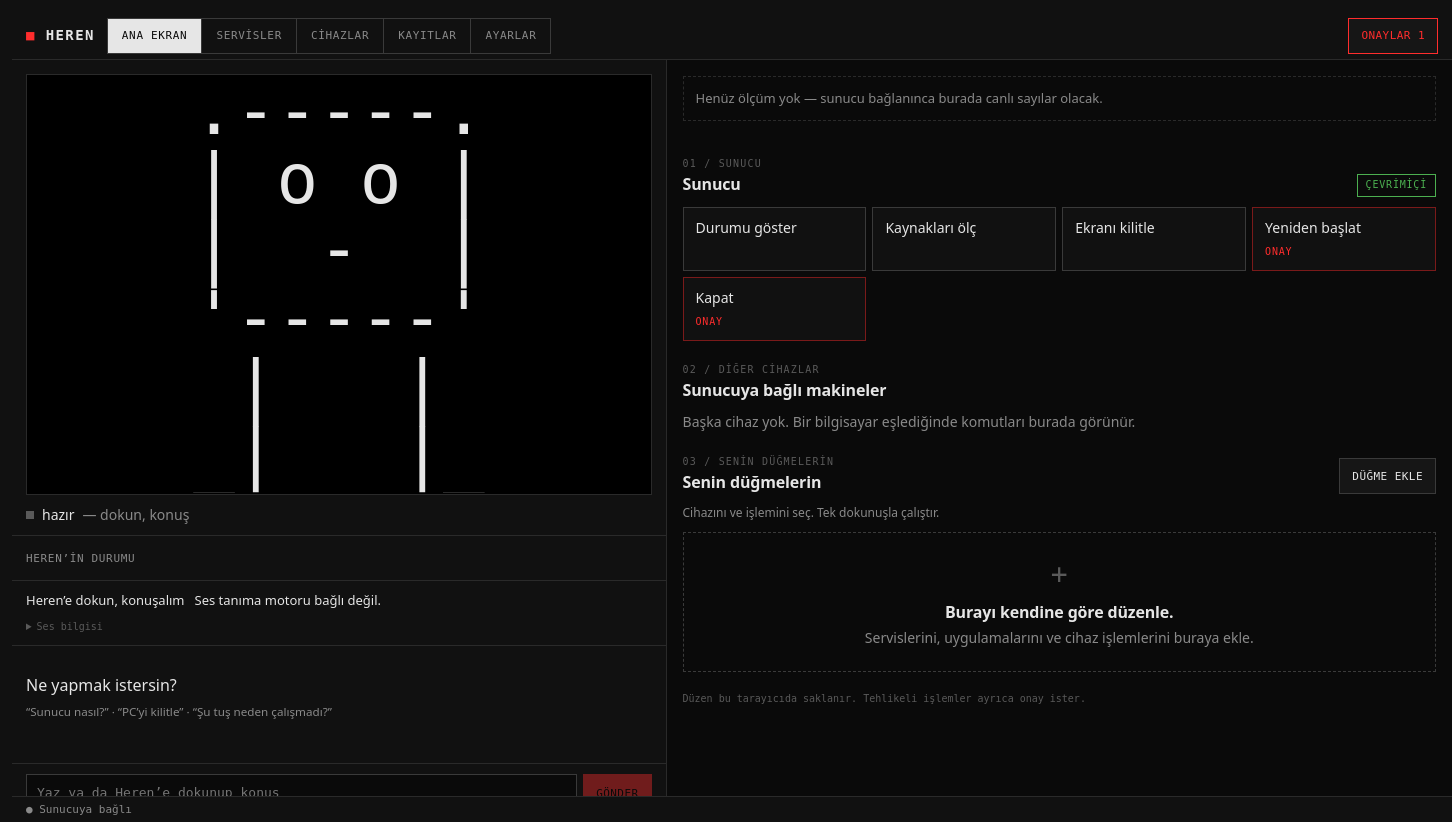
two-half home screen › composer sends trimmed text and hides internal tool names
This screenshot has width=1452, height=822.
Type "  şu tuş çalışmıyor niye  " into the field named "Heren'e mesaj".
click(302, 794); type("  şu tuş çalışmıyor niye  ")  # box [26,774,577,814]
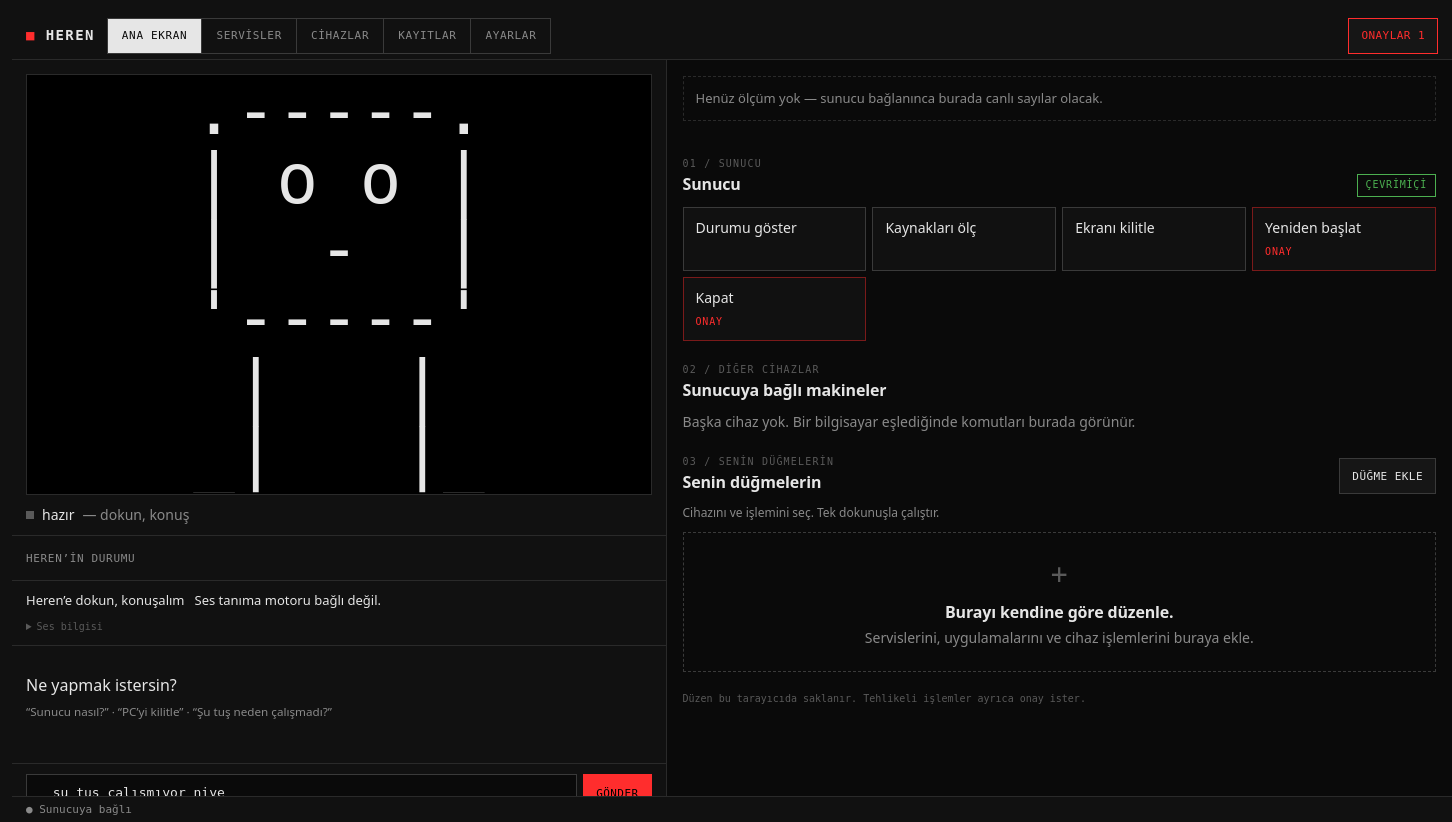
Click the button "Gönder".
click(617, 794)  # box [583,774,652,814]
(page scrolled)
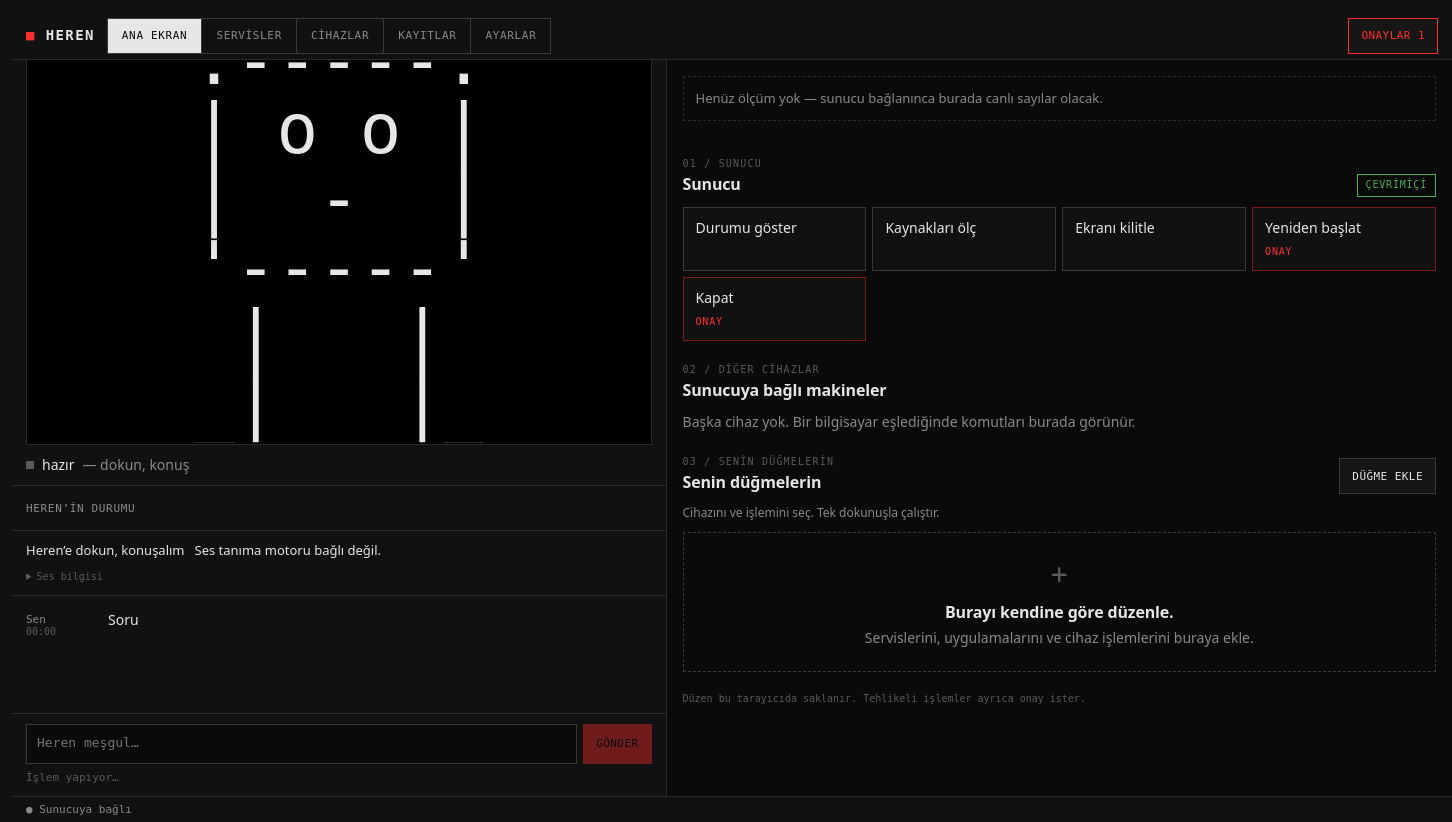
Expected: the text with test id "hermes-status" reads "İşlem yapıyor…", [26,771,119,784]
